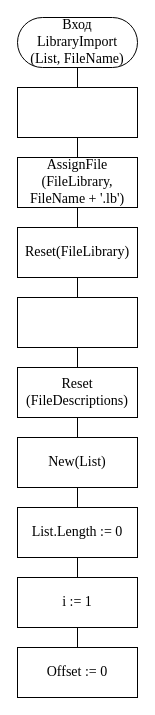
This 155x715 diagram has some shape labels left out. The shapes that lost their labels are listed below. From the top down, each one's centre as x and y in pixels, then its label:
(77,112): SetCurrentDir (FileName)
(77,322): AssignFile (FileDescriptions, FileName + '.lbd')
